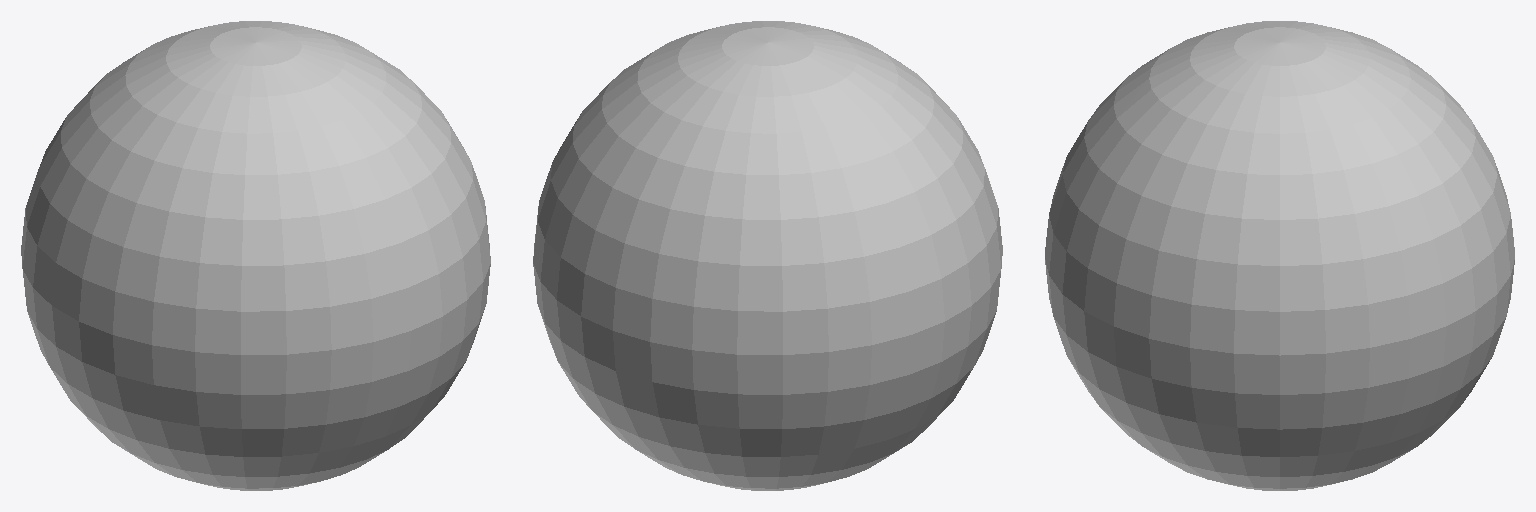
The model's file is tennisball.obj.
The picture shows the model from 3 angles: view 1: azimuth 30°, elevation 25°; view 2: azimuth 150°, elevation 25°; view 3: azimuth 270°, elevation 25°; orthographic projection.
Parts seen in each view (by area): view 1: Cube; view 2: Cube; view 3: Cube.
Boxes of the visible parts, <box> form: Cube: <box>21,21,490,490</box>; Cube: <box>533,21,1002,490</box>; Cube: <box>1045,21,1514,490</box>.
Size of the model in its own units: 0.067 by 0.067 by 0.067.